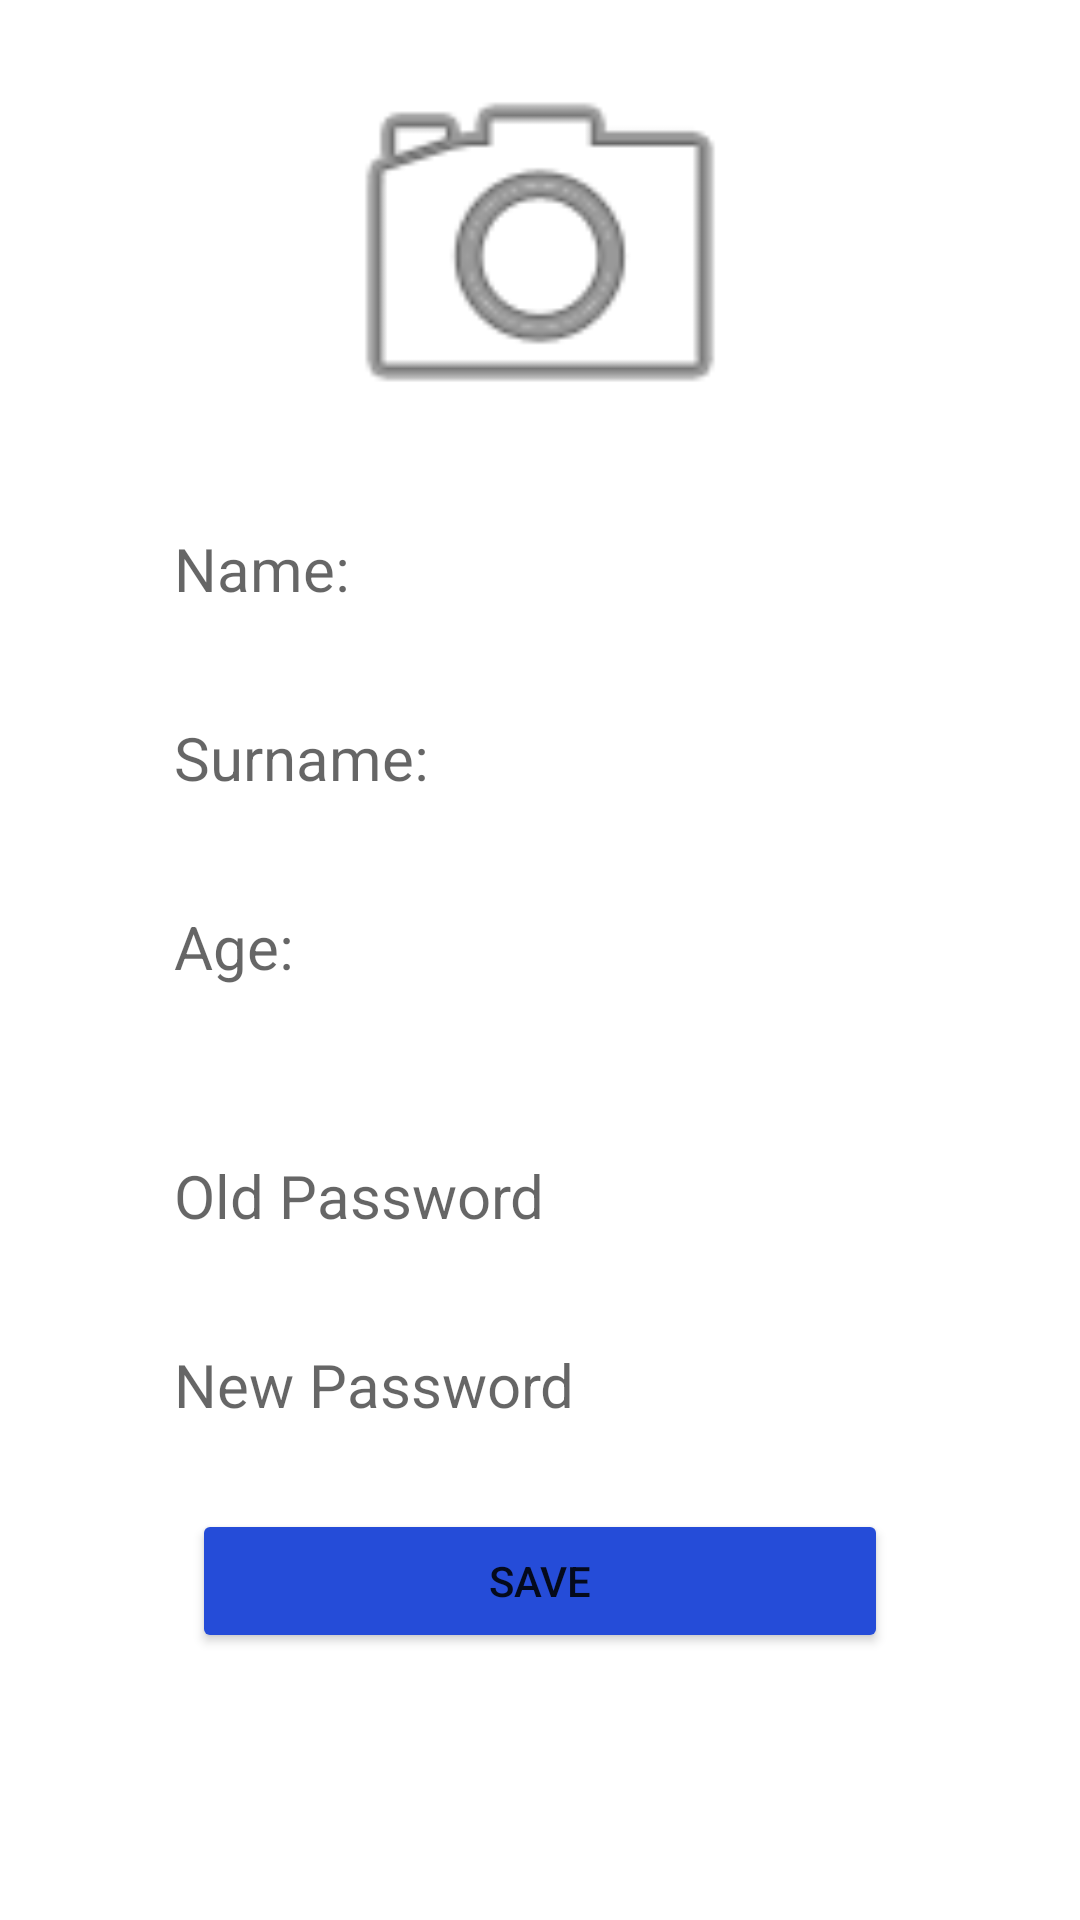

Where icons sit on this 1080 x 1920 app screen, as (x1, y1, x2, y2):
camera: (366, 103, 714, 381)
